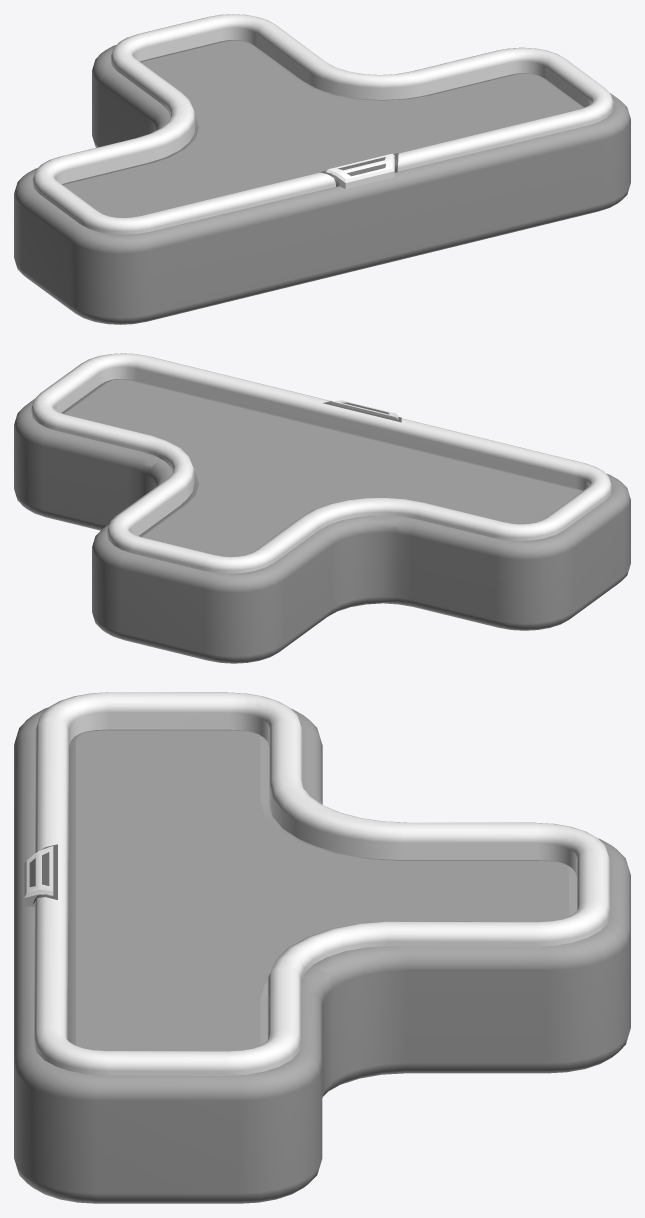
Rendered from Model_Block_T_New.fbx.
3 renders of one model, top to bottom at view 1: azimuth 30°, elevation 25°; view 2: azimuth 150°, elevation 25°; view 3: azimuth 270°, elevation 25°, orthographic. The views are drawn at different scales.
Parts seen in each view (by area): view 1: Block_T_BG, Block_T_Water, Block_T_Stroke; view 2: Block_T_BG, Block_T_Water, Block_T_Stroke; view 3: Block_T_BG, Block_T_Water, Block_T_Stroke.
Boxes of the visible parts, <box> form: Block_T_BG: <box>14,45,630,324</box>; Block_T_Water: <box>62,40,583,217</box>; Block_T_Stroke: <box>32,14,613,234</box>; Block_T_BG: <box>14,399,630,663</box>; Block_T_Water: <box>61,379,582,556</box>; Block_T_Stroke: <box>31,353,612,573</box>; Block_T_BG: <box>14,707,630,1203</box>; Block_T_Water: <box>67,729,576,1050</box>; Block_T_Stroke: <box>24,692,610,1075</box>.
Bounding box in the file's own units: 296 × 50.91 × 197.
2 materials, 1 textured.
